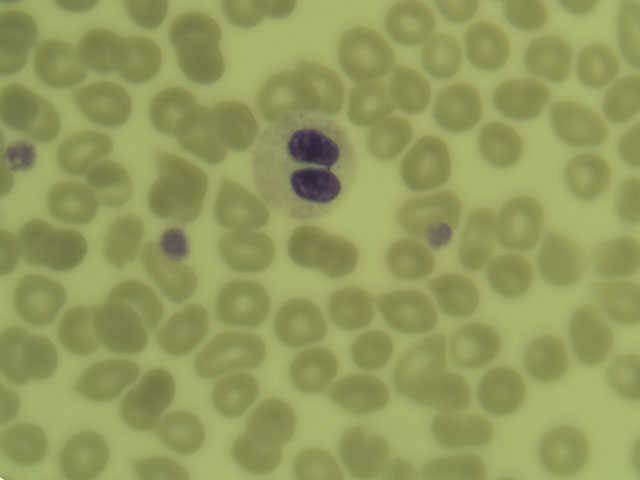Platelets: (7, 143, 36, 170), (161, 230, 187, 254), (430, 228, 449, 245)
RBC: (262, 124, 355, 214)
WBC: (119, 366, 177, 433), (396, 190, 460, 234), (120, 448, 202, 480), (411, 448, 493, 479), (405, 339, 455, 389), (181, 104, 226, 158), (491, 74, 548, 113), (608, 1, 640, 70), (405, 140, 451, 186), (343, 30, 389, 76), (575, 41, 621, 87), (531, 31, 577, 77), (418, 30, 464, 76), (451, 318, 497, 364), (463, 21, 509, 67), (551, 97, 597, 143), (561, 150, 607, 196), (432, 268, 478, 314), (386, 284, 432, 330), (533, 235, 579, 281), (485, 245, 531, 291), (460, 208, 506, 254), (386, 237, 432, 283), (498, 198, 544, 244), (214, 183, 260, 229), (224, 223, 270, 269), (286, 221, 332, 267), (316, 232, 362, 278), (523, 330, 569, 376), (569, 306, 615, 352), (594, 229, 640, 275), (436, 83, 482, 129), (368, 111, 414, 157), (386, 66, 432, 112), (343, 85, 389, 131), (62, 431, 108, 477), (160, 407, 206, 453), (152, 263, 198, 309), (165, 303, 211, 349), (218, 280, 264, 326), (154, 175, 200, 221), (158, 151, 204, 197), (102, 215, 148, 261), (113, 281, 159, 327), (94, 301, 140, 347), (59, 300, 105, 346), (15, 216, 61, 262), (43, 221, 89, 267), (51, 176, 97, 222), (86, 154, 132, 200), (58, 121, 104, 167), (35, 36, 81, 82), (79, 28, 125, 74), (114, 37, 160, 83), (170, 13, 216, 59), (178, 37, 224, 83), (150, 90, 196, 136), (205, 96, 251, 142), (265, 73, 311, 119), (290, 434, 336, 480), (339, 429, 385, 475), (537, 426, 583, 472), (430, 395, 476, 441), (480, 363, 526, 409), (428, 368, 474, 414), (339, 369, 385, 415), (351, 324, 397, 370), (292, 339, 338, 385), (277, 301, 323, 347), (326, 283, 372, 329), (215, 371, 261, 417), (251, 395, 297, 441), (233, 428, 279, 474), (202, 331, 248, 377), (386, 1, 432, 46), (1, 323, 46, 369), (1, 417, 46, 463), (1, 6, 46, 52), (1, 86, 46, 132), (81, 79, 126, 125), (479, 121, 524, 166), (76, 357, 135, 391), (15, 280, 62, 320), (601, 75, 640, 121), (504, 1, 549, 33), (608, 357, 640, 401), (608, 277, 640, 321), (221, 1, 269, 26), (619, 125, 640, 170), (256, 1, 298, 19)
